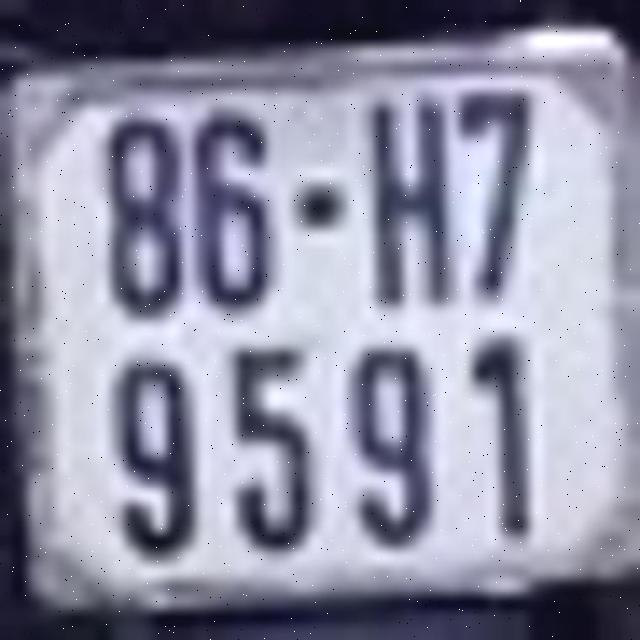1: (468, 332, 542, 540)
5: (228, 341, 317, 554)
6: (193, 108, 272, 311)
7: (459, 84, 535, 303)
8: (106, 112, 184, 319)
9: (110, 352, 200, 560), (347, 339, 434, 550)
H: (366, 87, 453, 312)
